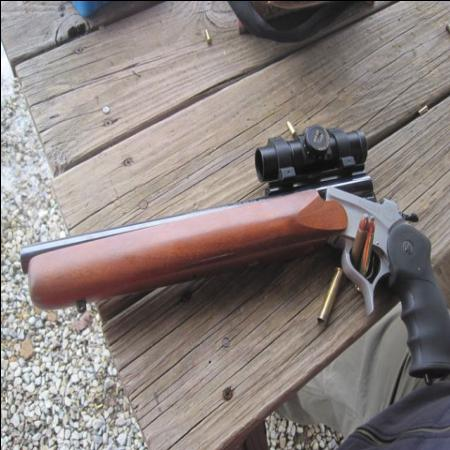Pistol: (19, 135, 449, 383)
